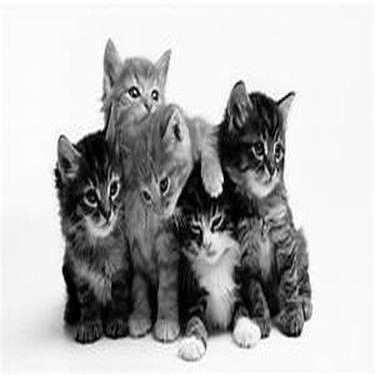cat: (218, 76, 315, 338), (99, 33, 175, 344), (132, 104, 224, 342), (167, 165, 261, 358), (56, 125, 130, 345)
